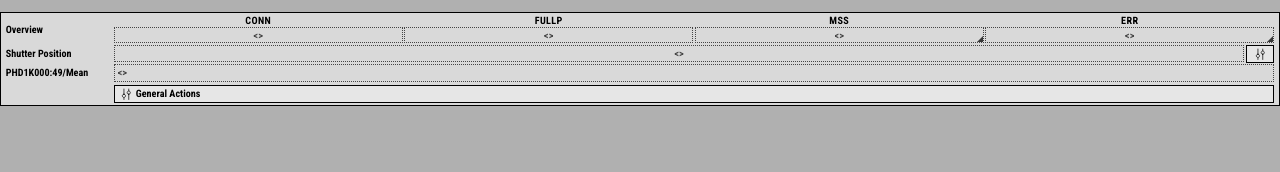
GeneralSection › exposes Open/Close Shutter behind the shutter cog
This screenshot has width=1280, height=172.
expect the button "Open Shutter" is not shown: met
Click the button named "Shutter actions".
click(1260, 54)  # box top-left (1246, 45), bottom-right (1274, 63)
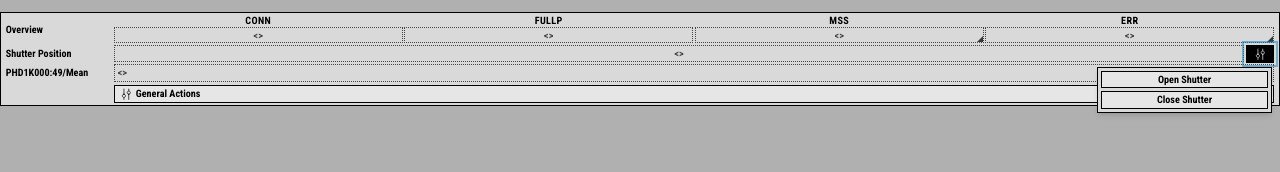
expect the button "Open Shutter" is shown: met, box top-left (1101, 71), bottom-right (1268, 88)
expect the button "Close Shutter" is shown: met, box top-left (1101, 91), bottom-right (1268, 108)
